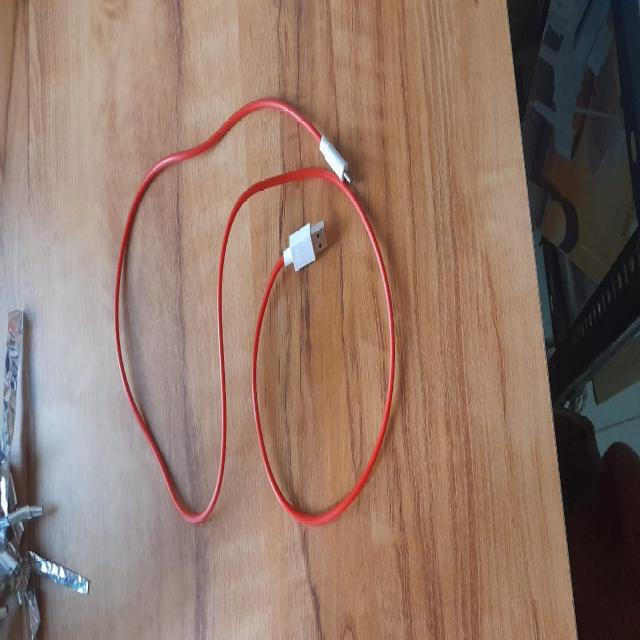Charger - Recyclable: (111, 87, 405, 544)
